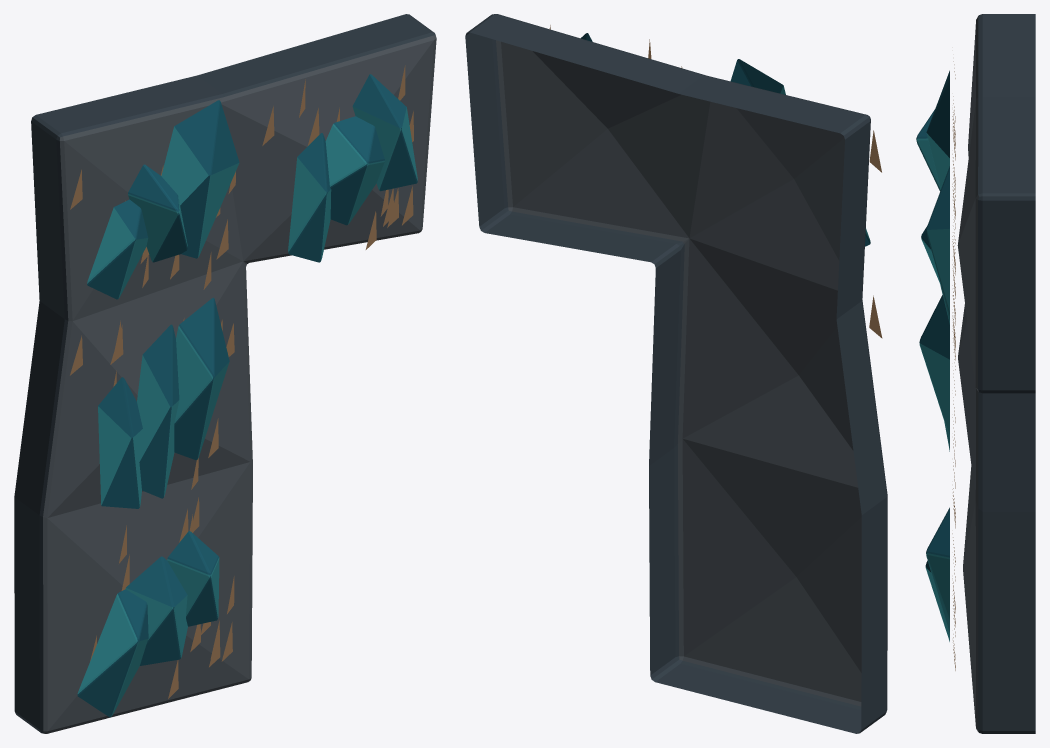
Rendered from Board_cross.fbx.
3 renders of one model, left to right at view 1: azimuth 30°, elevation 25°; view 2: azimuth 150°, elevation 25°; view 3: azimuth 270°, elevation 25°, orthographic. The views are drawn at different scales.
Parts seen in each view (by area): view 1: Art_cross_stone, Art_cross_mineral_0_2, Art_cross_mineral_2_2, Art_cross_mineral_2_1, Art_cross_mineral_3_0, Art_cross_mineral_2_0, Art_cross_mineral_1_1, Art_cross_mineral_1_0, Art_cross_mineral_3_1, Art_cross_mineral_1_2, Art_cross_mineral_0_0, Art_cross_mineral_0_1 (+1 smaller); view 2: Art_cross_stone, Art_cross_mineral_0_2; view 3: Art_cross_stone, Art_cross_mineral_2_2, Art_cross_mineral_1_2, Art_cross_mineral_0_2, Art_cross_mineral_3_2, Art_cross_mineral_0_1, Art_cross_mineral_3_0, Art_cross_mineral_1_1.
Part boxes in pixels (<box>): Art_cross_stone: <box>14,14,436,733</box>; Art_cross_mineral_0_2: <box>161,100,239,258</box>; Art_cross_mineral_2_2: <box>174,297,229,460</box>; Art_cross_mineral_2_1: <box>137,324,179,498</box>; Art_cross_mineral_3_0: <box>77,589,148,717</box>; Art_cross_mineral_2_0: <box>98,377,142,508</box>; Art_cross_mineral_1_1: <box>325,116,384,225</box>; Art_cross_mineral_1_0: <box>288,133,331,262</box>; Art_cross_mineral_3_1: <box>125,556,187,665</box>; Art_cross_mineral_1_2: <box>352,74,417,191</box>; Art_cross_mineral_0_0: <box>87,199,148,299</box>; Art_cross_mineral_0_1: <box>128,164,187,262</box>; Art_cross_stone: <box>465,14,887,733</box>; Art_cross_mineral_0_2: <box>730,59,785,94</box>; Art_cross_stone: <box>957,14,1035,733</box>; Art_cross_mineral_2_2: <box>919,295,949,437</box>; Art_cross_mineral_1_2: <box>926,166,949,315</box>; Art_cross_mineral_0_2: <box>926,70,949,189</box>; Art_cross_mineral_3_2: <box>926,507,949,621</box>; Art_cross_mineral_0_1: <box>916,109,940,191</box>; Art_cross_mineral_3_0: <box>925,560,949,641</box>; Art_cross_mineral_1_1: <box>921,226,941,287</box>.
Bounding box in the file's own units: 208 × 304 × 51.56.
